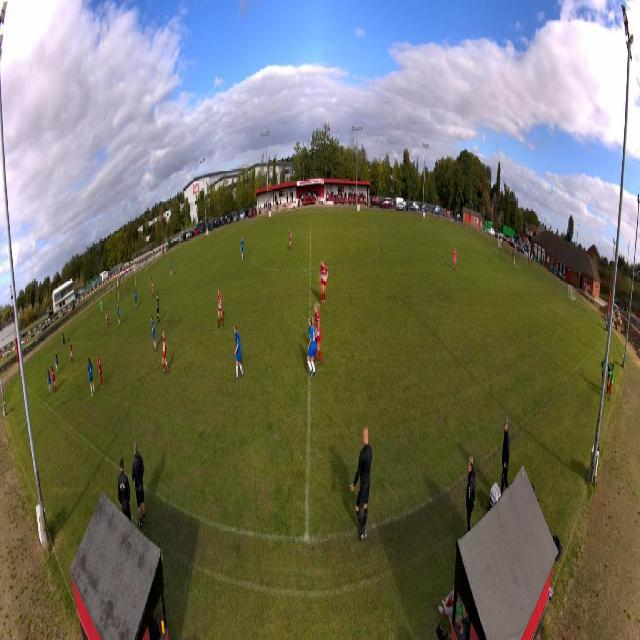player: (312, 300, 323, 366), (306, 316, 317, 378), (232, 321, 243, 382), (318, 258, 329, 305), (161, 330, 170, 377), (87, 357, 96, 397), (150, 312, 158, 352), (96, 354, 105, 389), (217, 289, 223, 329), (50, 365, 57, 393), (155, 292, 160, 327), (47, 365, 53, 393), (69, 342, 75, 367), (240, 237, 245, 261), (105, 308, 110, 329), (288, 227, 292, 253), (453, 247, 457, 271), (117, 303, 121, 327), (150, 275, 154, 297), (134, 288, 138, 309), (99, 298, 103, 318), (169, 259, 173, 279), (54, 355, 58, 374)
